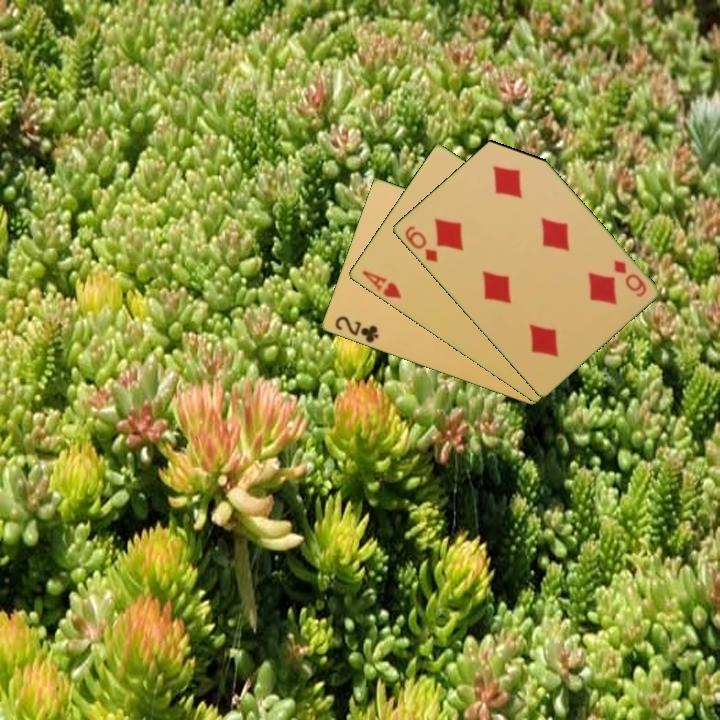2c: (331, 313, 381, 346)
6d: (609, 256, 649, 300), (401, 222, 440, 265)
Ah: (358, 267, 404, 302)
